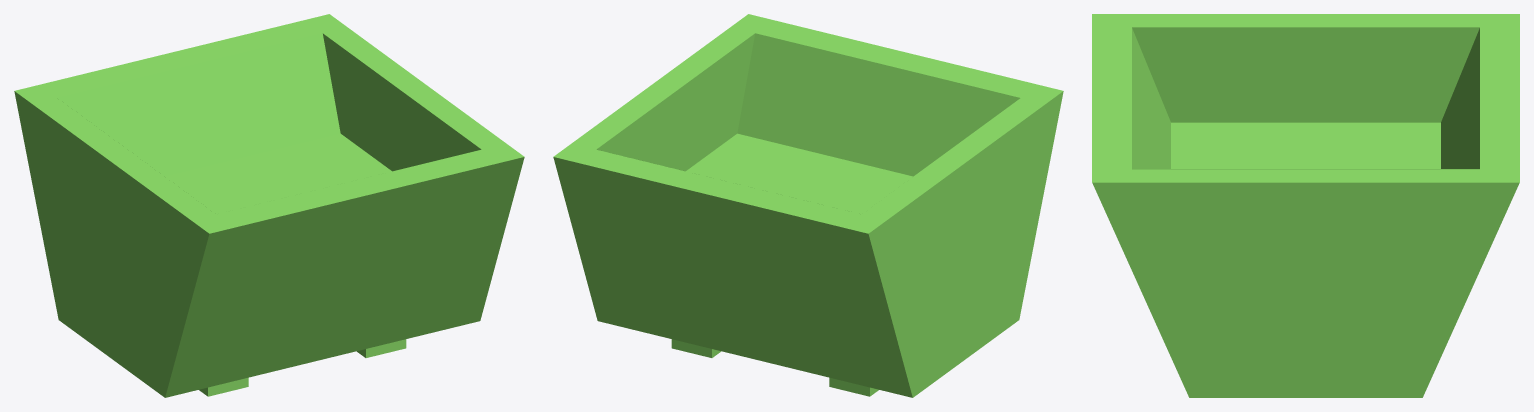
Rendered from MYBaitBox.obj.
3 renders of one model, left to right at view 1: azimuth 30°, elevation 25°; view 2: azimuth 150°, elevation 25°; view 3: azimuth 270°, elevation 25°, orthographic. The views are drawn at different scales.
Visible parts, largest first — view 1: MYBaitBox_0, MYBaitBox_1; view 2: MYBaitBox_0, MYBaitBox_1; view 3: MYBaitBox_0, MYBaitBox_1.
Boxes of the visible parts, x1,y1,x2,y2 form: MYBaitBox_0: (14, 14, 524, 397); MYBaitBox_1: (165, 133, 524, 397); MYBaitBox_0: (553, 14, 1063, 397); MYBaitBox_1: (553, 133, 912, 397); MYBaitBox_0: (1092, 14, 1519, 397); MYBaitBox_1: (1171, 122, 1440, 168).
Size of the model in its own units: 0.7203 by 0.4829 by 0.7726.
